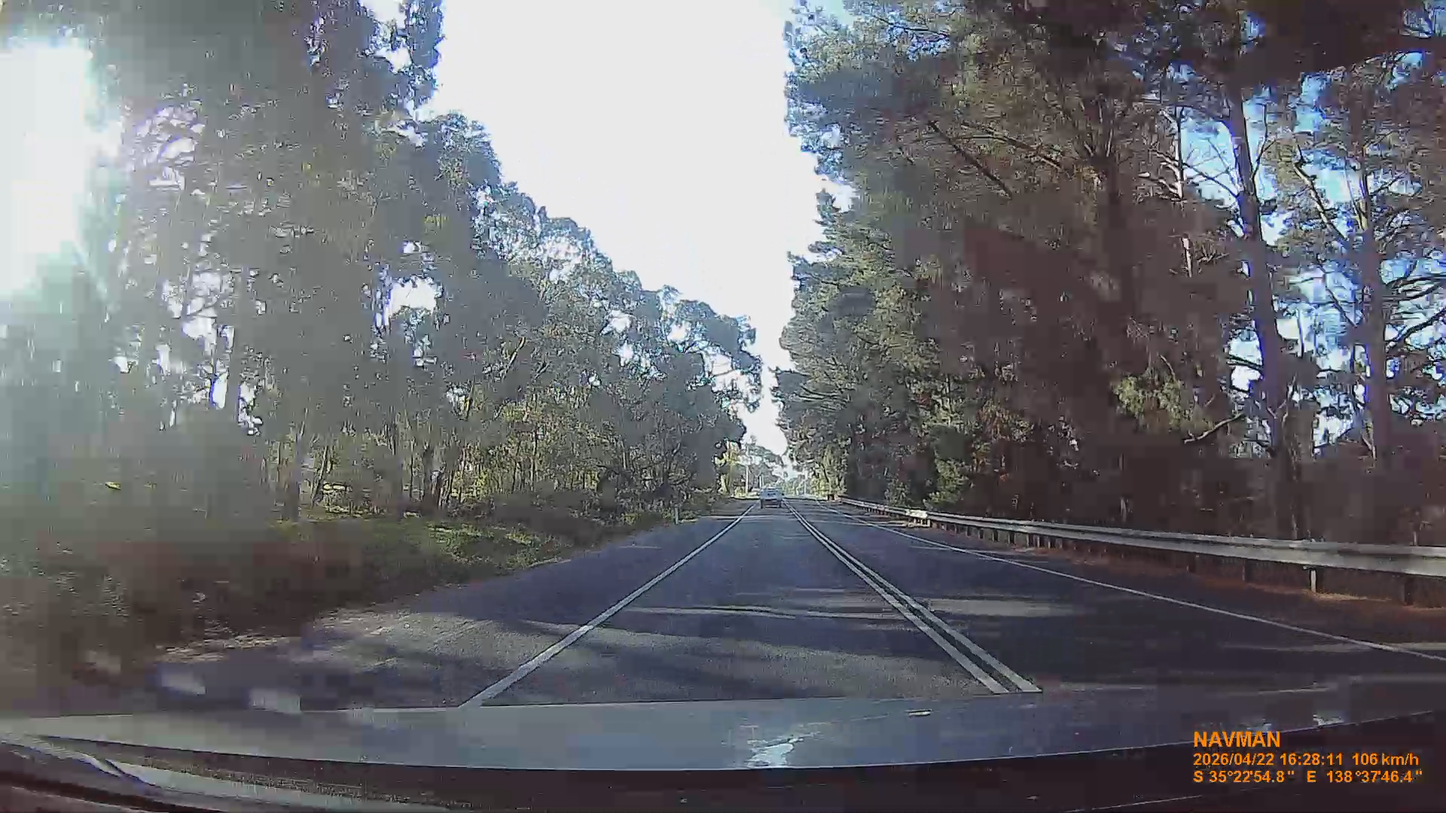road barriers: (838, 499, 1445, 611)
